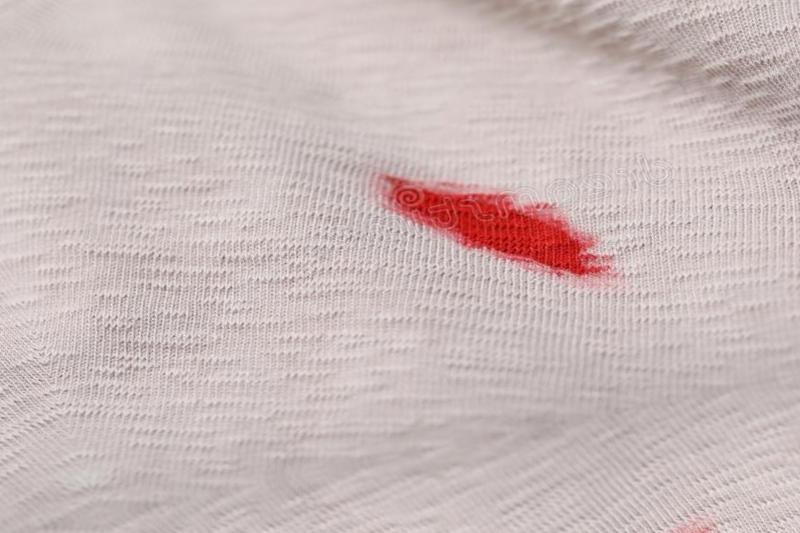stain: (375, 165, 622, 285)
